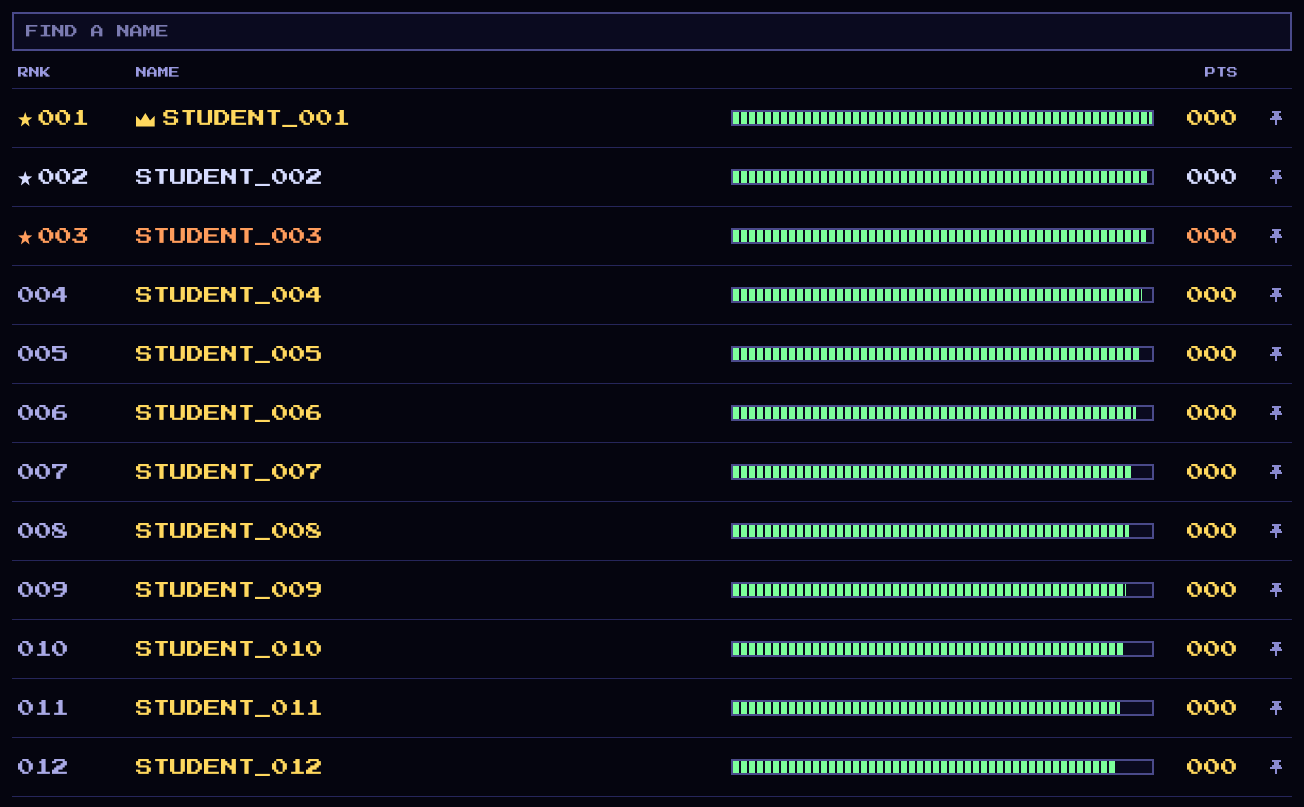
it: Board with 130 students › pins a student with the row's pin button and unpins with a second click
The width and height of the screenshot is (1304, 807).
Expected: the text "YOU" is not shown
Click the button named "Pin student_005 as you": [1276, 354] box [1260,338,1292,370]
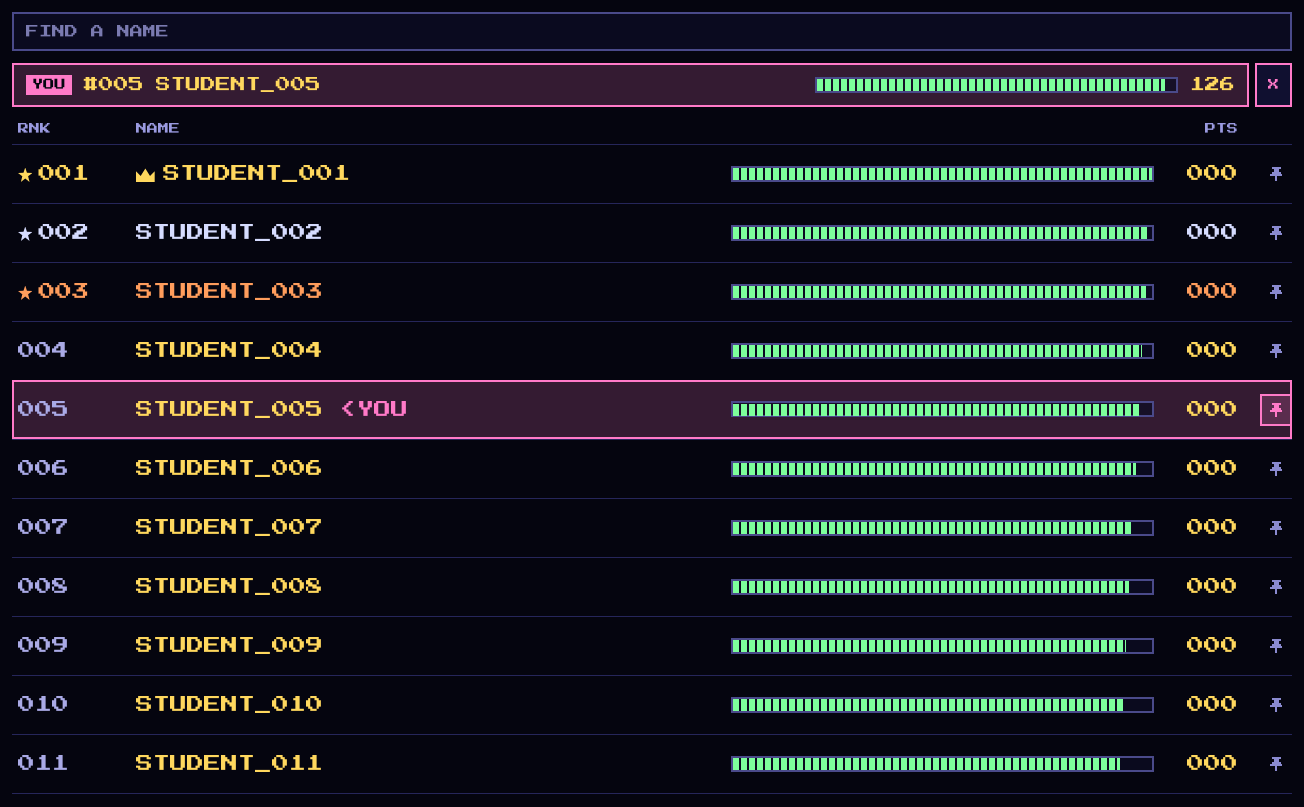
Expected: the text "YOU" is shown, [26,75,72,94]
Click the button named "Unpin student_005": [1276, 410] box [1260,394,1292,426]
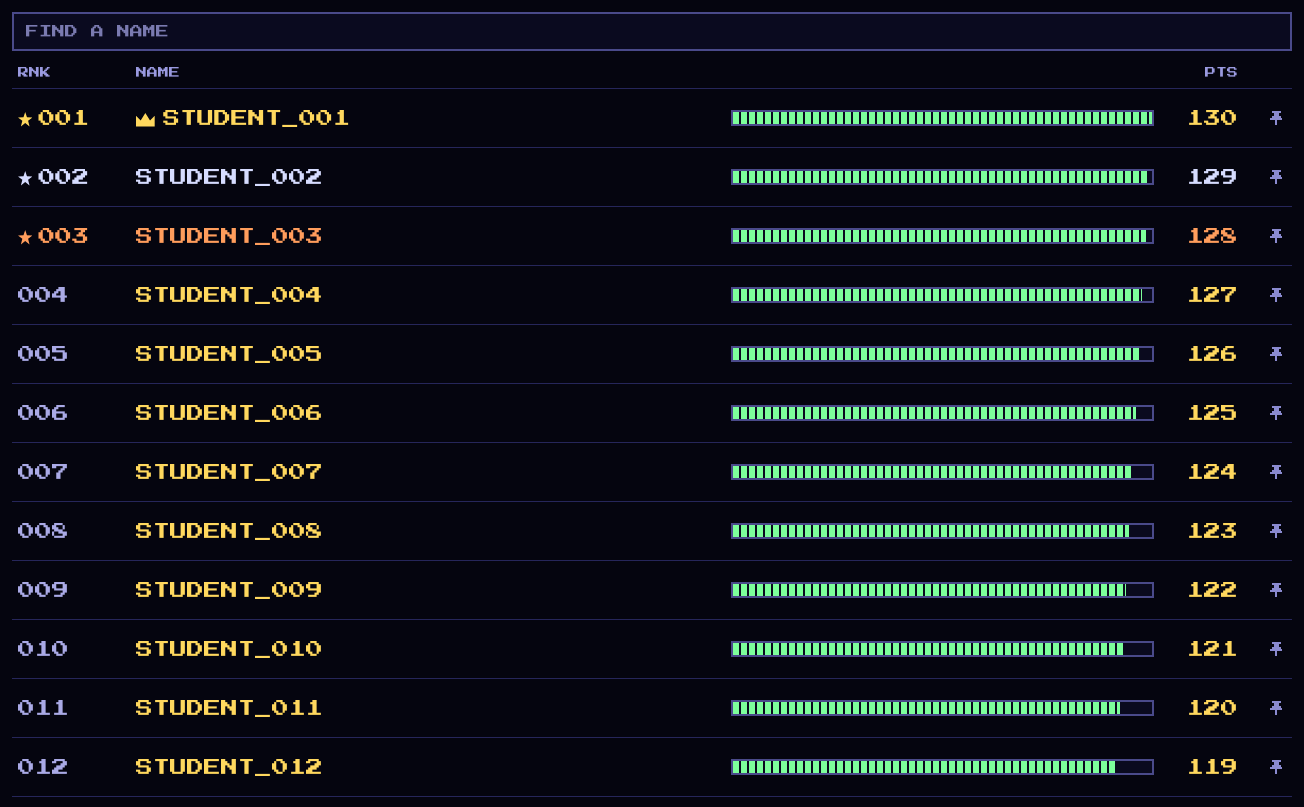
Expected: the button "YOU" is gone
